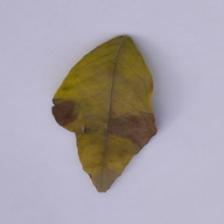black spot: (41, 87, 160, 152)
